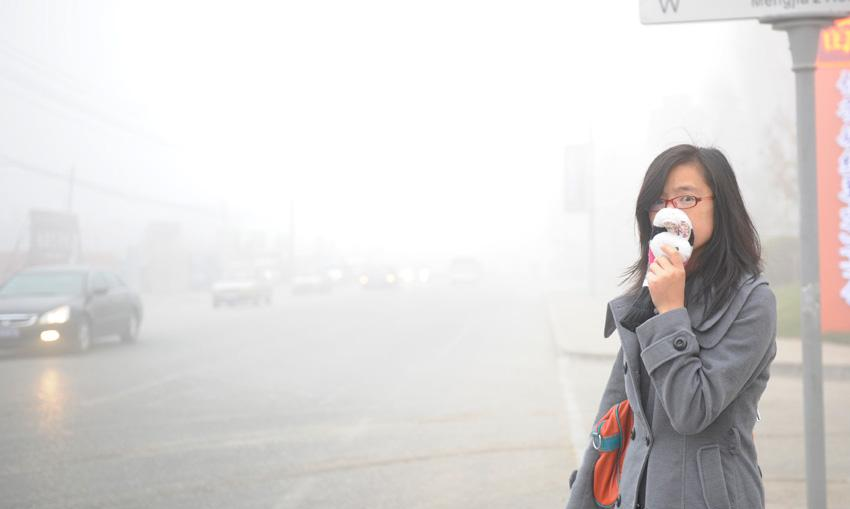car: (1, 265, 146, 355), (211, 266, 276, 307)
person: (561, 143, 777, 509)
